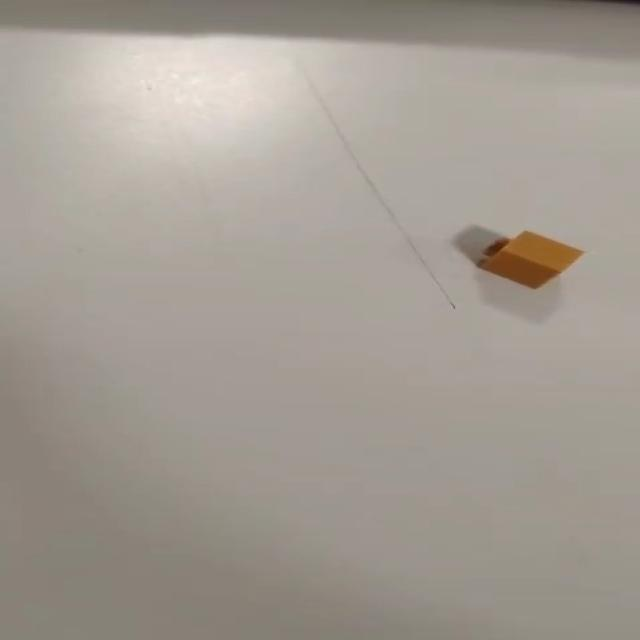C1x1x1: (476, 228, 586, 290)
